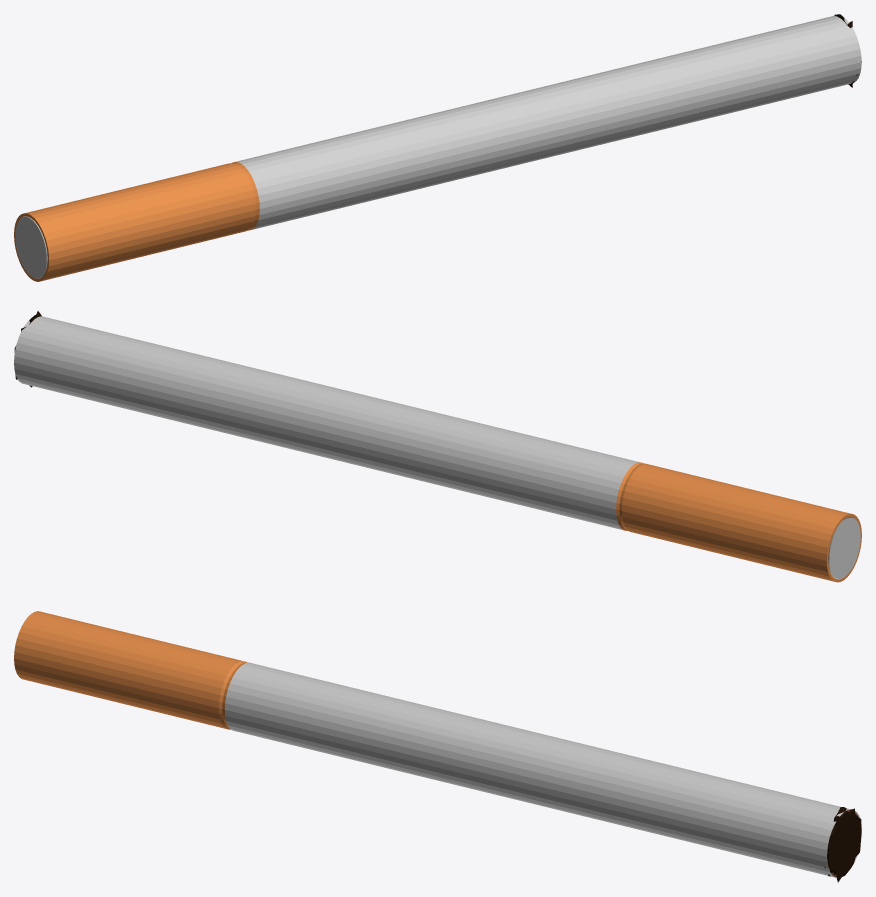
File: TimerObject.fbx
3 views of the same model, one above another, from view 1: azimuth 30°, elevation 25°; view 2: azimuth 150°, elevation 25°; view 3: azimuth 330°, elevation 25° (orthographic).
Parts seen in each view (by area): view 1: Cylinder; view 2: Cylinder; view 3: Cylinder, Cylinder.001.
Boxes of the visible parts, box(x1,y1,x2,y2) form: Cylinder: box(14, 15, 861, 281); Cylinder: box(14, 316, 861, 582); Cylinder: box(14, 611, 861, 877); Cylinder.001: box(824, 807, 861, 882).
Bounding box in the file's own units: 401 × 33.03 × 30.
